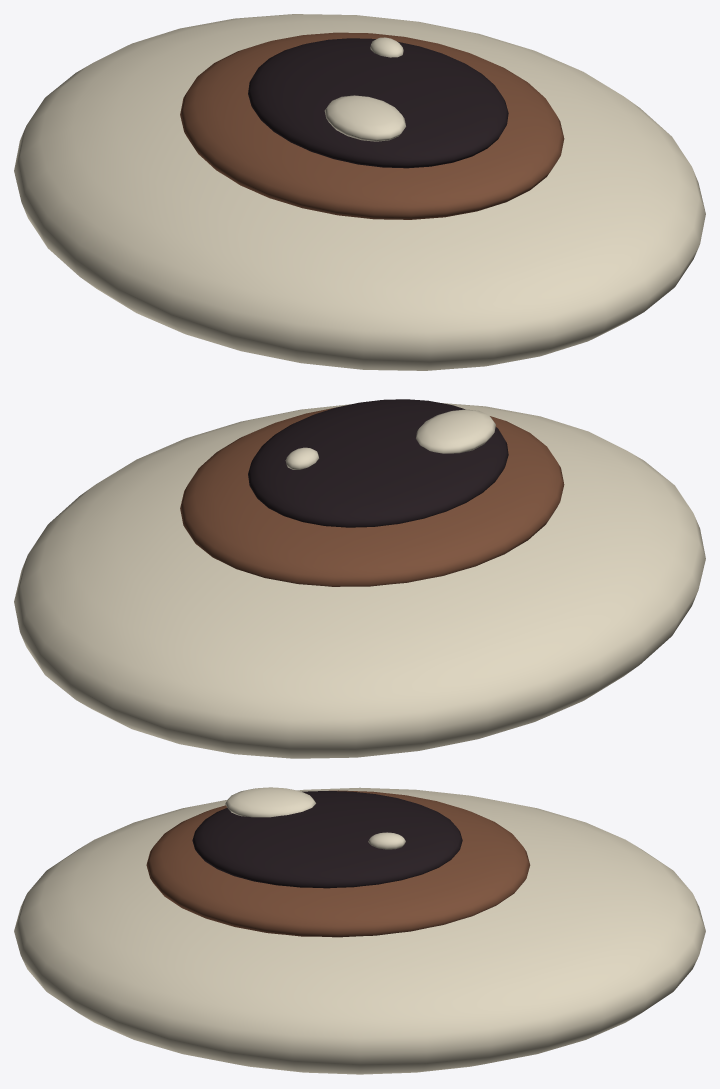
File: eye-BWs4Sj44.glb
3 renders of one model, top to bottom at view 1: azimuth 30°, elevation 25°; view 2: azimuth 150°, elevation 25°; view 3: azimuth 270°, elevation 25°, orthographic. The views are drawn at different scales.
Visible parts, largest first — view 1: eye_white, eye_iris, eye_pupil, eye_glint; view 2: eye_white, eye_iris, eye_pupil, eye_glint, eye_glint_small; view 3: eye_white, eye_iris, eye_pupil, eye_glint, eye_glint_small.
Part boxes in pixels (box(x1,y1,x2,y2)): eye_white: box(14, 14, 705, 370); eye_iris: box(180, 32, 564, 219); eye_pupil: box(248, 38, 508, 168); eye_glint: box(324, 95, 405, 141); eye_white: box(14, 403, 705, 758); eye_iris: box(180, 407, 564, 586); eye_pupil: box(248, 399, 508, 527); eye_glint: box(416, 409, 495, 453); eye_glint_small: box(285, 447, 318, 469); eye_white: box(14, 787, 705, 1074); eye_iris: box(146, 790, 530, 937); eye_pupil: box(192, 791, 462, 888); eye_glint: box(225, 787, 315, 817); eye_glint_small: box(368, 832, 405, 849).
Bounding box in the file's own units: 0.216 × 0.078 × 0.256.
